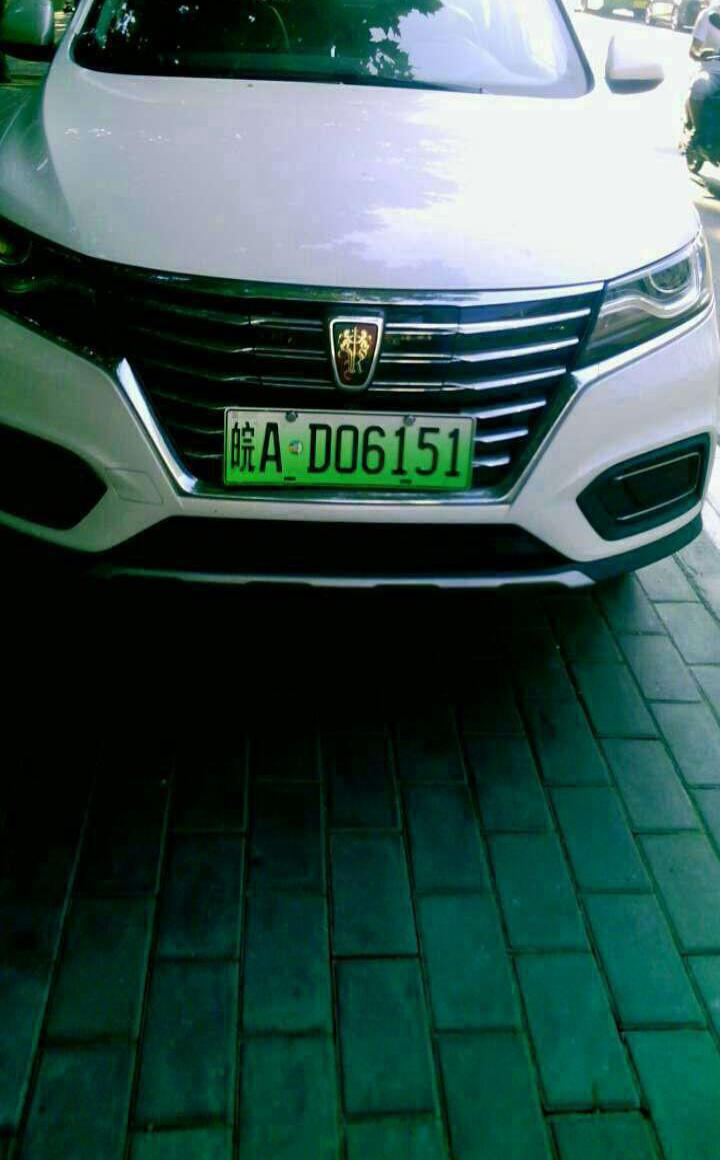car_id: (226, 409, 472, 482)
